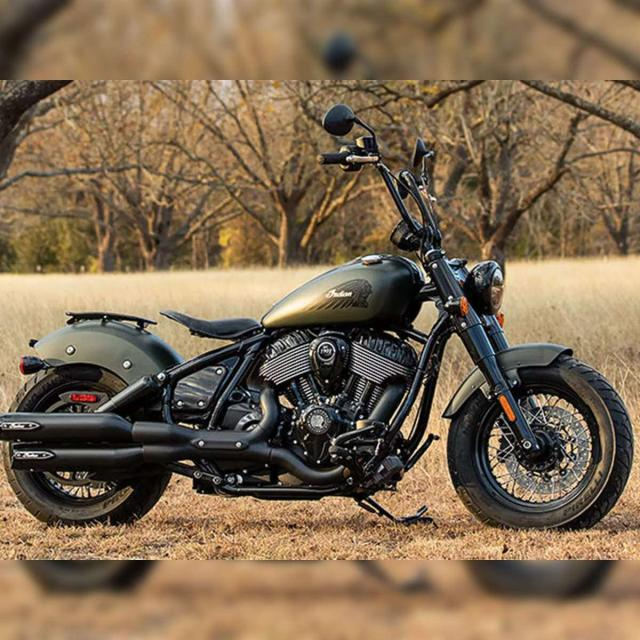motorcycle: (0, 104, 634, 529)
